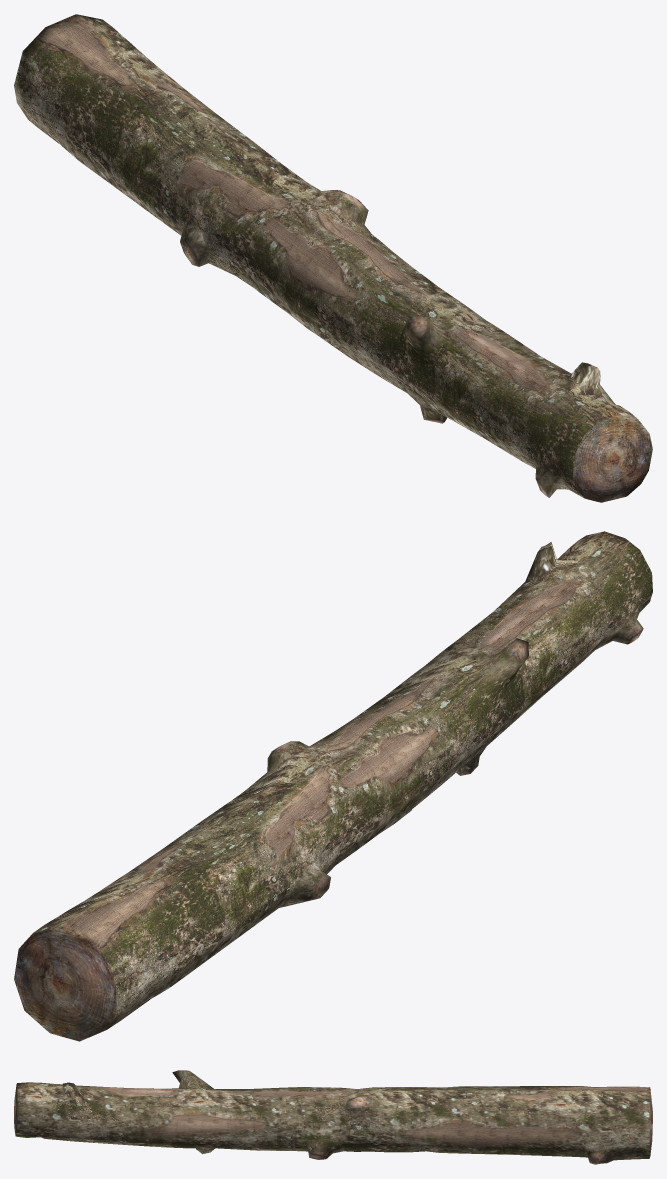
3 views of the same model, one above another, from view 1: azimuth 30°, elevation 25°; view 2: azimuth 150°, elevation 25°; view 3: azimuth 270°, elevation 25° (orthographic). The views are drawn at different scales.
Parts seen in each view (by area): view 1: Log; view 2: Log; view 3: Log.
Boxes of the visible parts, x1,y1,x2,y2 form: Log: (14,14,652,502); Log: (14,531,652,1041); Log: (14,1070,652,1164).
Bounding box in the file's own units: 91.59 × 96.1 × 703.
Materials: 1 (1 with a texture image).
